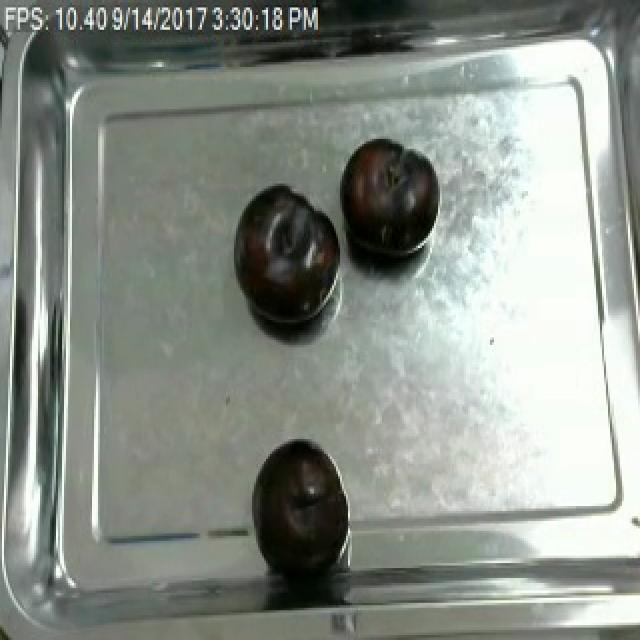Fruit: (228, 181, 344, 332), (334, 134, 442, 268), (248, 434, 348, 571)
